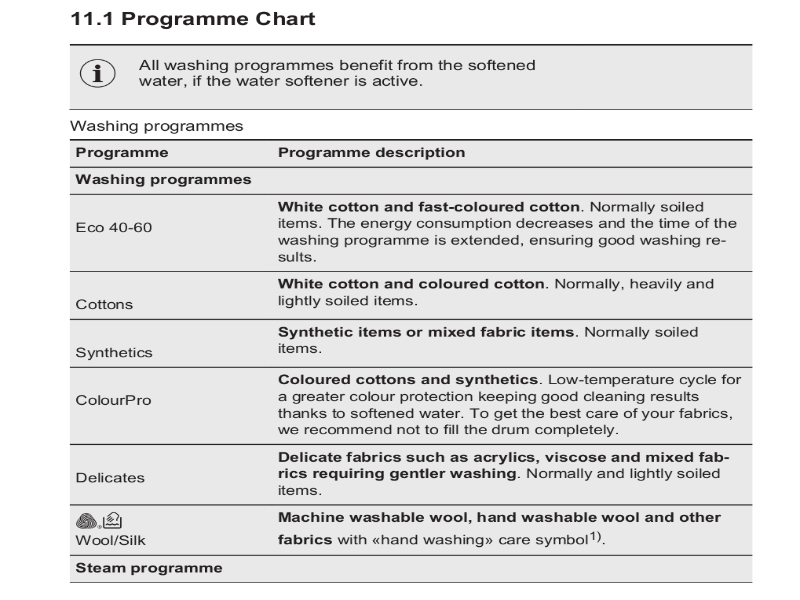borderless: (54, 36, 781, 592)
cell: (272, 371, 751, 440), (272, 197, 749, 265), (271, 448, 751, 502), (76, 49, 579, 95), (270, 507, 751, 552), (272, 275, 751, 312), (271, 323, 750, 360), (69, 114, 259, 136), (69, 169, 259, 190), (275, 143, 474, 162), (69, 509, 157, 549), (68, 558, 226, 578), (69, 145, 225, 163), (70, 387, 162, 413), (70, 214, 159, 239), (72, 467, 159, 488), (70, 343, 162, 362), (71, 295, 160, 314)
